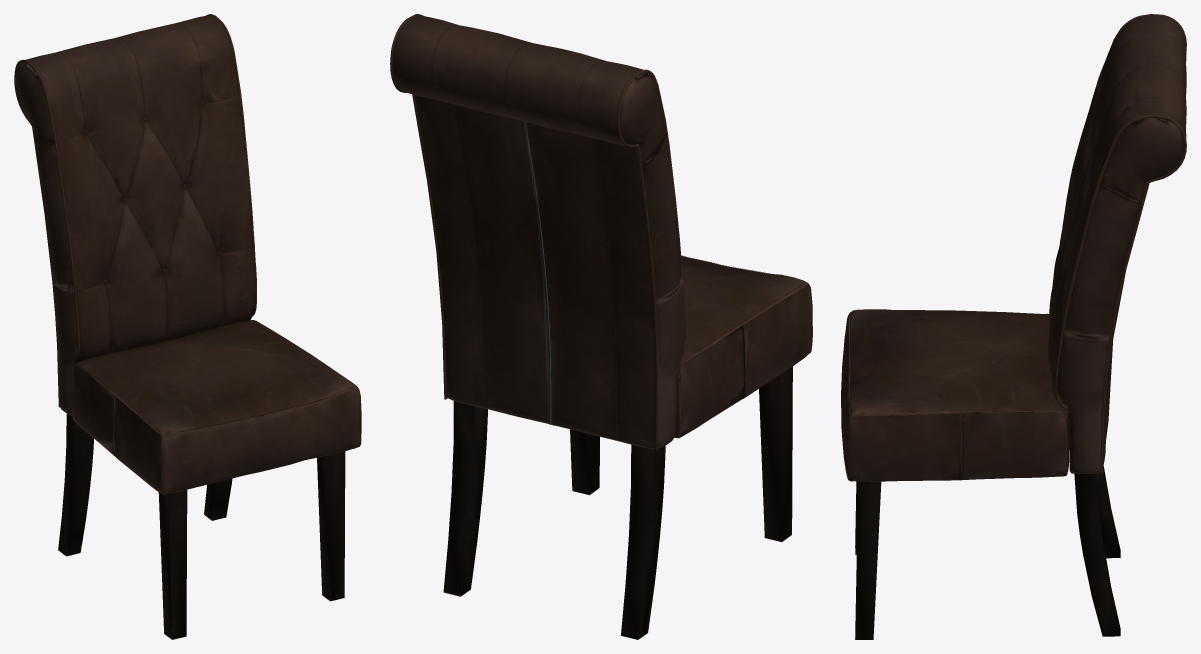
The model's file is dining_chair_02.glb.
The picture shows the model from 3 angles, left to right: view 1: azimuth 30°, elevation 25°; view 2: azimuth 150°, elevation 25°; view 3: azimuth 270°, elevation 25°; orthographic projection. The views are drawn at different scales.
Visible parts, largest first — view 1: dining_chair_02; view 2: dining_chair_02; view 3: dining_chair_02.
Boxes of the visible parts, x1,y1,x2,y2 form: dining_chair_02: [14, 14, 361, 639]; dining_chair_02: [390, 14, 812, 639]; dining_chair_02: [841, 14, 1186, 639].
Bounding box in the file's own units: 0.4336 × 0.9728 × 0.5764.
Materials: 1 (1 with a texture image).
